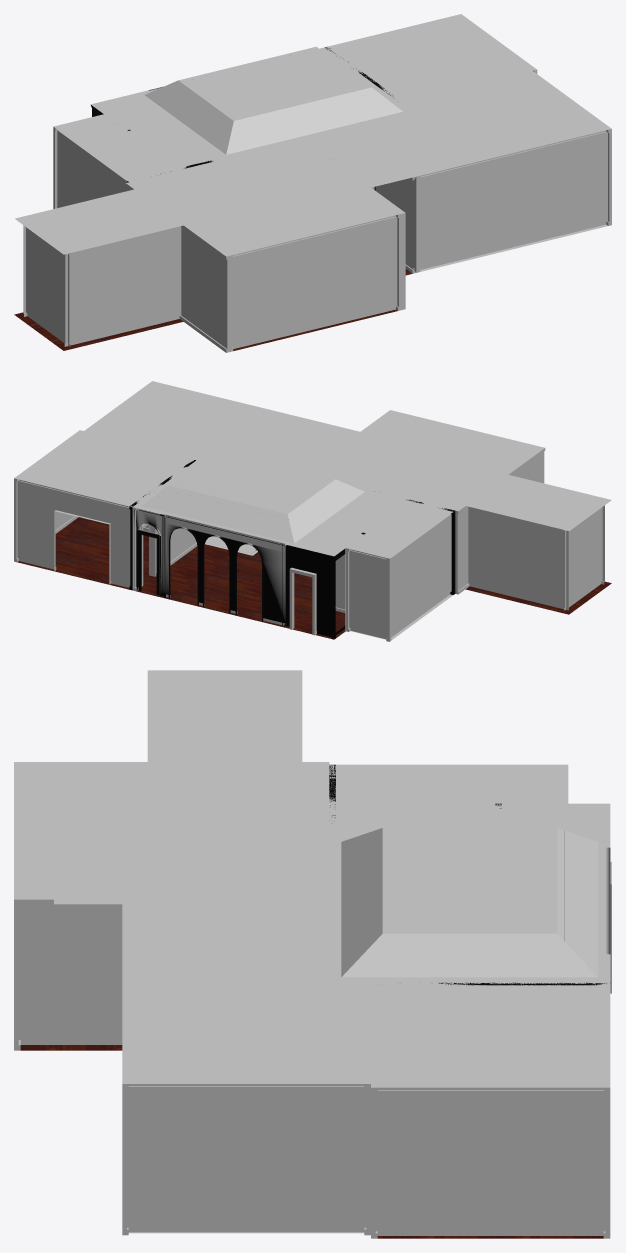
File: Apartment.FBX
3 renders of one model, top to bottom at view 1: azimuth 30°, elevation 25°; view 2: azimuth 150°, elevation 25°; view 3: azimuth 270°, elevation 25°, orthographic. The views are drawn at different scales.
Parts seen in each view (by area): view 1: LivingroomCeiling, BedroomCeiling, KitchenNWall, BedroomNWall, KitchenCeiling, ClosetNWall, OfficeCeiling, BathroomCeiling, ClosetWWall, ClosetEWall, BathrromEWall, LivingRoomWWall2 (+8 smaller); view 2: LivingroomCeiling, BedroomCeiling, KitchenCeiling, LivingroomSWall1, ClosetSWall, OfficeCeiling, OfficeSWall, LivingroomFloor, BathrromEWall, BathroomCeiling, OfficeFloor, BathroomSWall1 (+10 smaller); view 3: LivingroomCeiling, BedroomCeiling, KitchenWWall, KitchenCeiling, OfficeWWall, OfficeCeiling, BedroomWWall1, BathroomCeiling, OfficeSWall, BedroomNWall, OfficeNWall, KitchenNWall (+5 smaller).
Boxes of the visible parts, x1,y1,x2,y2 form: LivingroomCeiling: (91,46,415,187); BedroomCeiling: (15,156,404,254); KitchenNWall: (414,128,611,272); BedroomNWall: (229,211,403,348); KitchenCeiling: (347,71,608,176); ClosetNWall: (64,222,182,346); OfficeCeiling: (322,15,535,103); BathroomCeiling: (55,116,225,181); ClosetWWall: (125,182,229,352); ClosetEWall: (24,220,70,346); BathrromEWall: (54,126,131,207); LivingRoomWWall2: (375,177,415,273); LivingroomCeiling: (135,422,406,556); BedroomCeiling: (324,410,611,530); KitchenCeiling: (86,381,320,462); LivingroomSWall1: (133,508,335,639); ClosetSWall: (465,502,568,610); OfficeCeiling: (14,430,199,507); OfficeSWall: (17,478,133,589); LivingroomFloor: (136,542,345,639); BathrromEWall: (386,511,452,641); BathroomCeiling: (326,490,452,556); OfficeFloor: (17,517,156,589); BathroomSWall1: (345,548,391,641); LivingroomCeiling: (122,803,610,980); BedroomCeiling: (14,670,329,899); KitchenWWall: (122,1081,370,1232); KitchenCeiling: (122,934,371,1081); OfficeWWall: (371,1084,610,1235); OfficeCeiling: (371,980,610,1087); BedroomWWall1: (18,893,197,1044); BathroomCeiling: (329,764,562,838); OfficeSWall: (603,983,610,1238); BedroomNWall: (14,765,20,1050); OfficeNWall: (371,982,377,1238); KitchenNWall: (122,950,128,1235).
Bounding box in the file's own units: 23.05 × 4.67 × 13.96.
